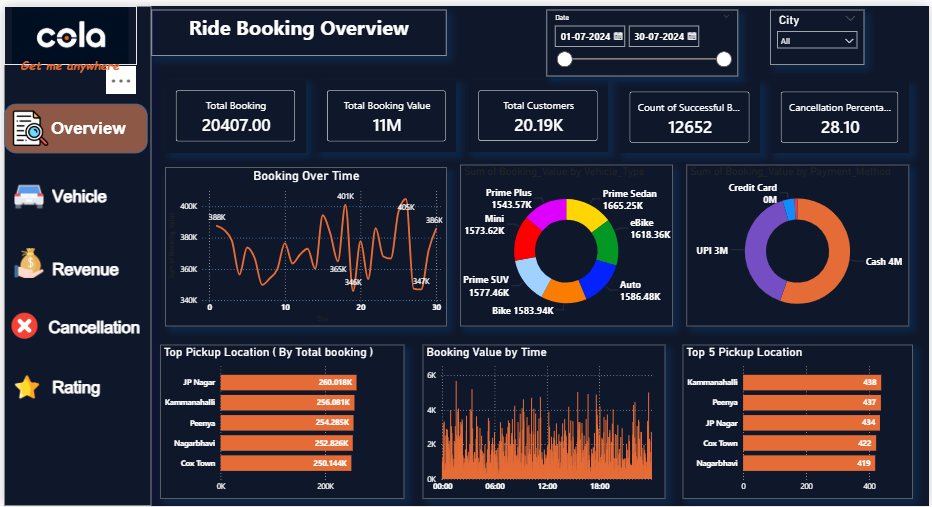

The page's visual inventory and layout, read from the dashboard file:
{"tool":"powerbi","page":{"name":"Overall","canvas":[1480,800],"ordinal":0},"visuals":[{"type":"shape","box":[0,0,235.7,800],"z":0},{"type":"image","box":[0,0,211.7,93.3],"z":1000},{"type":"textbox","box":[0,75,211.7,36.7],"z":2000},{"type":"shape","box":[0,155,230,80],"z":3000},{"type":"textbox","box":[58.3,176.7,153.3,53.3],"z":4000},{"type":"image","box":[13.3,163.3,56.7,63.3],"z":5000},{"type":"textbox","box":[71.7,280,138.3,55],"z":6000},{"type":"image","box":[16.7,265,48.3,78.3],"z":7000},{"type":"textbox","box":[71.7,395,138.3,55],"z":8000},{"type":"image","box":[15,371.7,48.3,78.3],"z":9000},{"type":"textbox","box":[65,490,163.3,51.7],"z":10000},{"type":"image","box":[11.7,478.3,41.7,66.7],"z":11000},{"type":"textbox","box":[71.7,585,160,51.7],"z":12000},{"type":"image","box":[16.7,576.7,41.7,66.7],"z":13000},{"type":"textbox","box":[236.7,5,471.7,73.3],"z":14000},{"type":"slicer","fields":{"Values":["July.Date"]},"box":[868,6,306,106],"z":15000},{"type":"cardVisual","fields":{"Data":["CountNonNull(July.Booking_ID)"]},"box":[258.3,118.3,225,116.7],"z":16000},{"type":"cardVisual","fields":{"Data":["Sum(July.Booking_Value)"]},"box":[500.2,118,224,116],"z":17000},{"type":"cardVisual","fields":{"Data":["Count(July.Customer_ID)"]},"box":[741.2,118.3,225,115],"z":18000},{"type":"cardVisual","fields":{"Data":["CountNonNull(July.Booking_Status)"]},"box":[983.1,120,226,116],"z":19000},{"type":"cardVisual","fields":{"Data":["July.canceledPercentage"]},"box":[1226,120,222,116],"z":20000},{"type":"slicer","fields":{"Values":["July.Pickup_Location"]},"box":[1226,6,150,88],"z":21000},{"type":"lineChart","title":"Booking Over Time ","fields":{"Category":["July.Date.Variation.Date Hierarchy.Day"],"Y":["Sum(July.Booking_Value)"]},"box":[258,258,450,254],"z":22000},{"type":"donutChart","fields":{"Category":["July.Vehicle_Type"],"Y":["Sum(July.Booking_Value)"]},"box":[730.2,254,340,258],"z":23000},{"type":"donutChart","fields":{"Y":["Sum(July.Booking_Value)"],"Category":["July.Payment_Method"]},"box":[1092.4,254,356,258],"z":24000},{"type":"clusteredBarChart","title":"Top Pickup Location ( By Total booking )","fields":{"Category":["July.Pickup_Location"],"Y":["Sum(July.Booking_Value)"]},"box":[250,542,390,246],"z":25000},{"type":"columnChart","fields":{"Category":["July.Time"],"Y":["Sum(July.Booking_Value)"]},"box":[669,542,388,246],"z":26000},{"type":"clusteredBarChart","title":"Top 5 Pickup Location ","fields":{"Category":["July.Pickup_Location"],"Y":["CountNonNull(July.Pickup_Location)"]},"box":[1086,542,368,246],"z":27000}]}

Visuals, with their boxes on the page's 1480x800 design canvas (x1, y1, x2, y2). These are canvas units, not pixel positions in the 932x507 screenshot, which may show the page scaled, cropped or inside an application window:
shape: crop(0, 0, 236, 800)
image: crop(0, 0, 212, 93)
textbox: crop(0, 75, 212, 112)
shape: crop(0, 155, 230, 235)
textbox: crop(58, 177, 212, 230)
image: crop(13, 163, 70, 227)
textbox: crop(72, 280, 210, 335)
image: crop(17, 265, 65, 343)
textbox: crop(72, 395, 210, 450)
image: crop(15, 372, 63, 450)
textbox: crop(65, 490, 228, 542)
image: crop(12, 478, 53, 545)
textbox: crop(72, 585, 232, 637)
image: crop(17, 577, 58, 643)
textbox: crop(237, 5, 708, 78)
slicer - July.Date: crop(868, 6, 1174, 112)
cardVisual - CountNonNull(July.Booking_ID): crop(258, 118, 483, 235)
cardVisual - Sum(July.Booking_Value): crop(500, 118, 724, 234)
cardVisual - Count(July.Customer_ID): crop(741, 118, 966, 233)
cardVisual - CountNonNull(July.Booking_Status): crop(983, 120, 1209, 236)
cardVisual - July.canceledPercentage: crop(1226, 120, 1448, 236)
slicer - July.Pickup_Location: crop(1226, 6, 1376, 94)
"Booking Over Time " lineChart: crop(258, 258, 708, 512)
donutChart - July.Vehicle_Type x Sum(July.Booking_Value): crop(730, 254, 1070, 512)
donutChart - Sum(July.Booking_Value) x July.Payment_Method: crop(1092, 254, 1448, 512)
"Top Pickup Location ( By Total booking )" clusteredBarChart: crop(250, 542, 640, 788)
columnChart - July.Time x Sum(July.Booking_Value): crop(669, 542, 1057, 788)
"Top 5 Pickup Location " clusteredBarChart: crop(1086, 542, 1454, 788)
